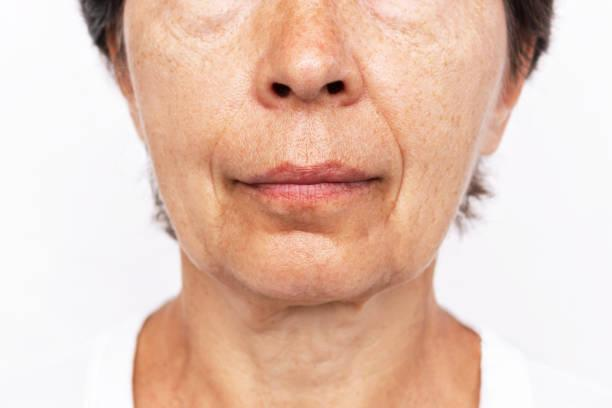Dry-Skin: (366, 15, 496, 203), (143, 17, 248, 189), (231, 221, 380, 289)
